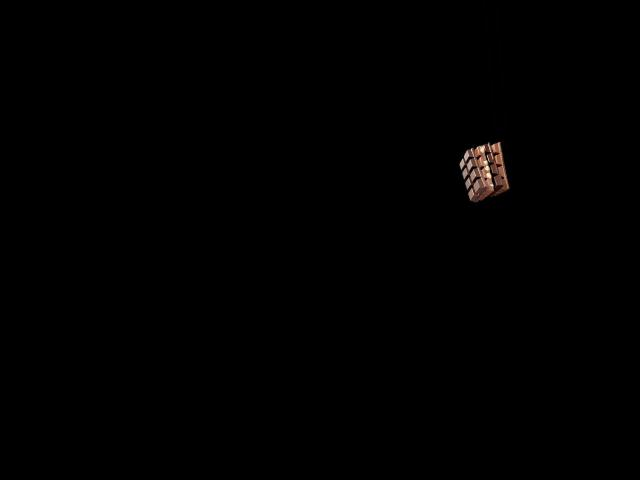chocolate: (458, 141, 512, 199)
